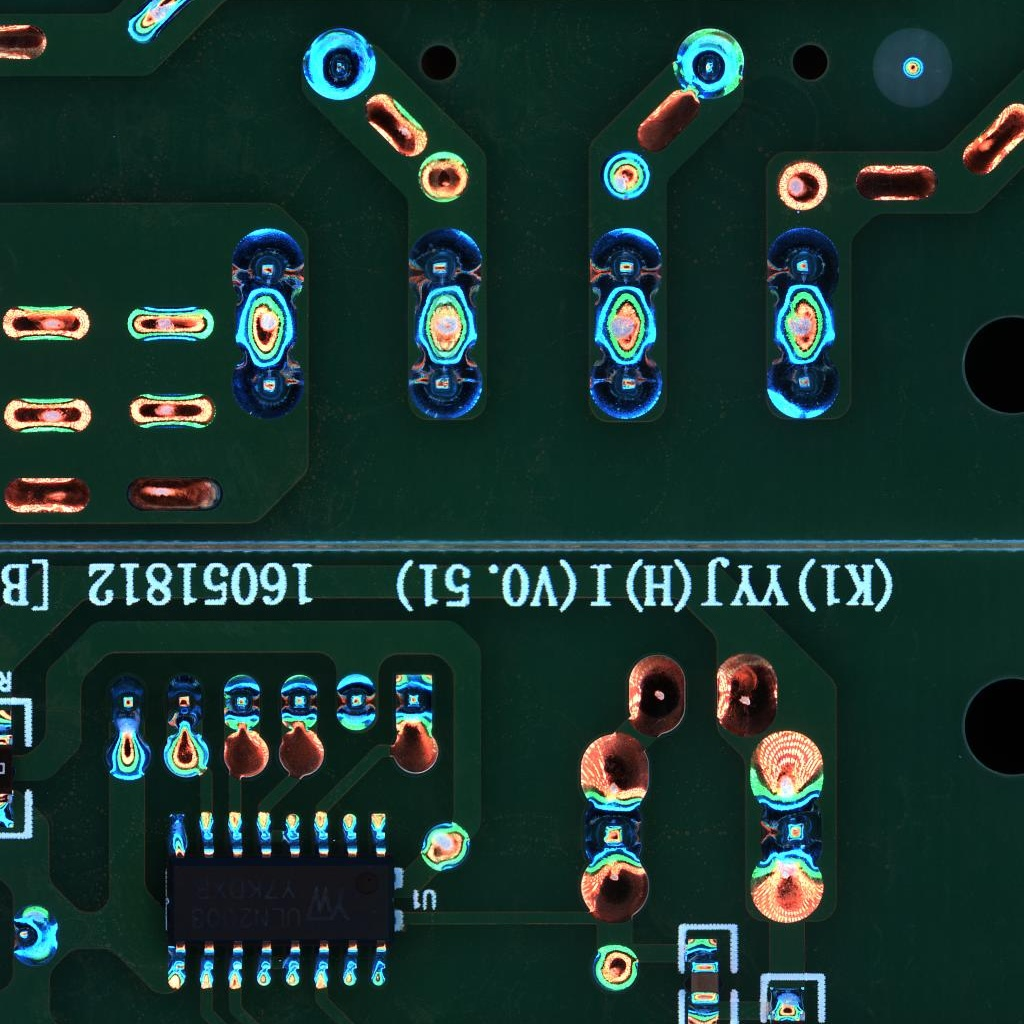spot: (227, 222, 309, 304), (404, 225, 487, 304), (762, 226, 843, 306), (763, 343, 845, 422), (226, 341, 308, 419), (668, 25, 748, 102), (300, 26, 380, 102), (588, 347, 667, 423), (406, 346, 486, 421), (588, 226, 665, 301), (751, 798, 829, 865), (575, 800, 646, 873), (8, 899, 61, 971), (332, 670, 378, 736), (419, 819, 471, 873), (220, 670, 263, 734), (394, 670, 435, 736), (162, 669, 204, 733), (601, 148, 650, 201), (105, 673, 147, 734), (279, 669, 319, 733), (593, 944, 641, 992)
